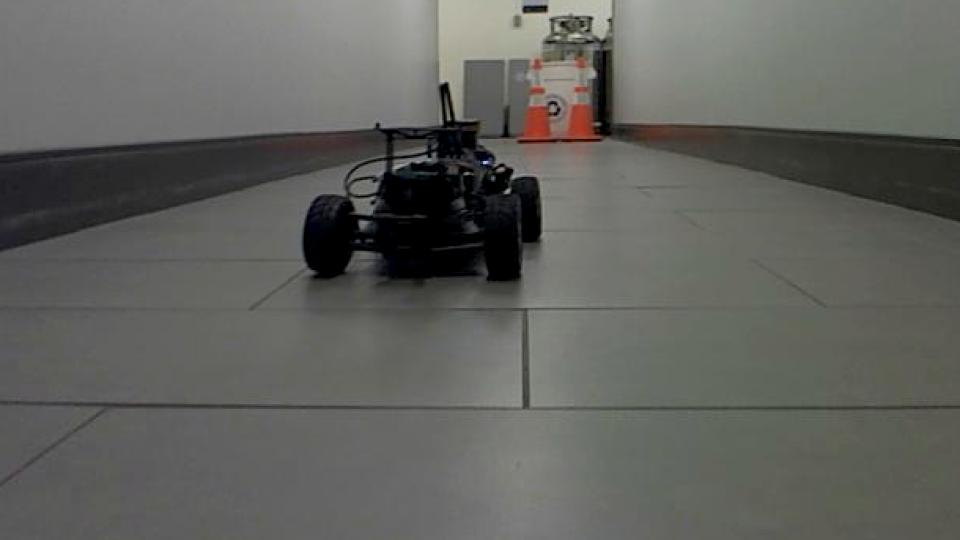car: (299, 81, 546, 284)
